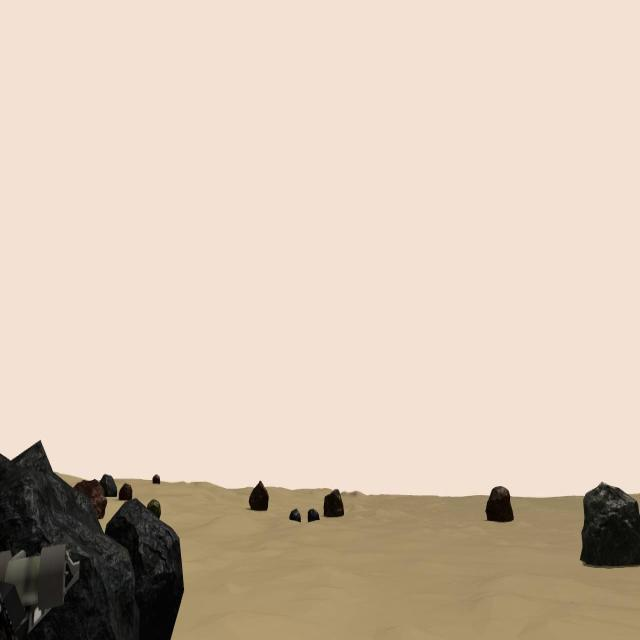rock: (0, 437, 139, 639), (105, 499, 184, 640), (580, 479, 640, 566), (74, 478, 107, 519), (486, 486, 514, 522), (324, 489, 344, 516), (250, 481, 268, 511), (99, 473, 117, 498), (119, 483, 132, 502), (147, 500, 160, 516), (307, 509, 319, 522), (290, 507, 300, 521), (152, 475, 160, 484)
